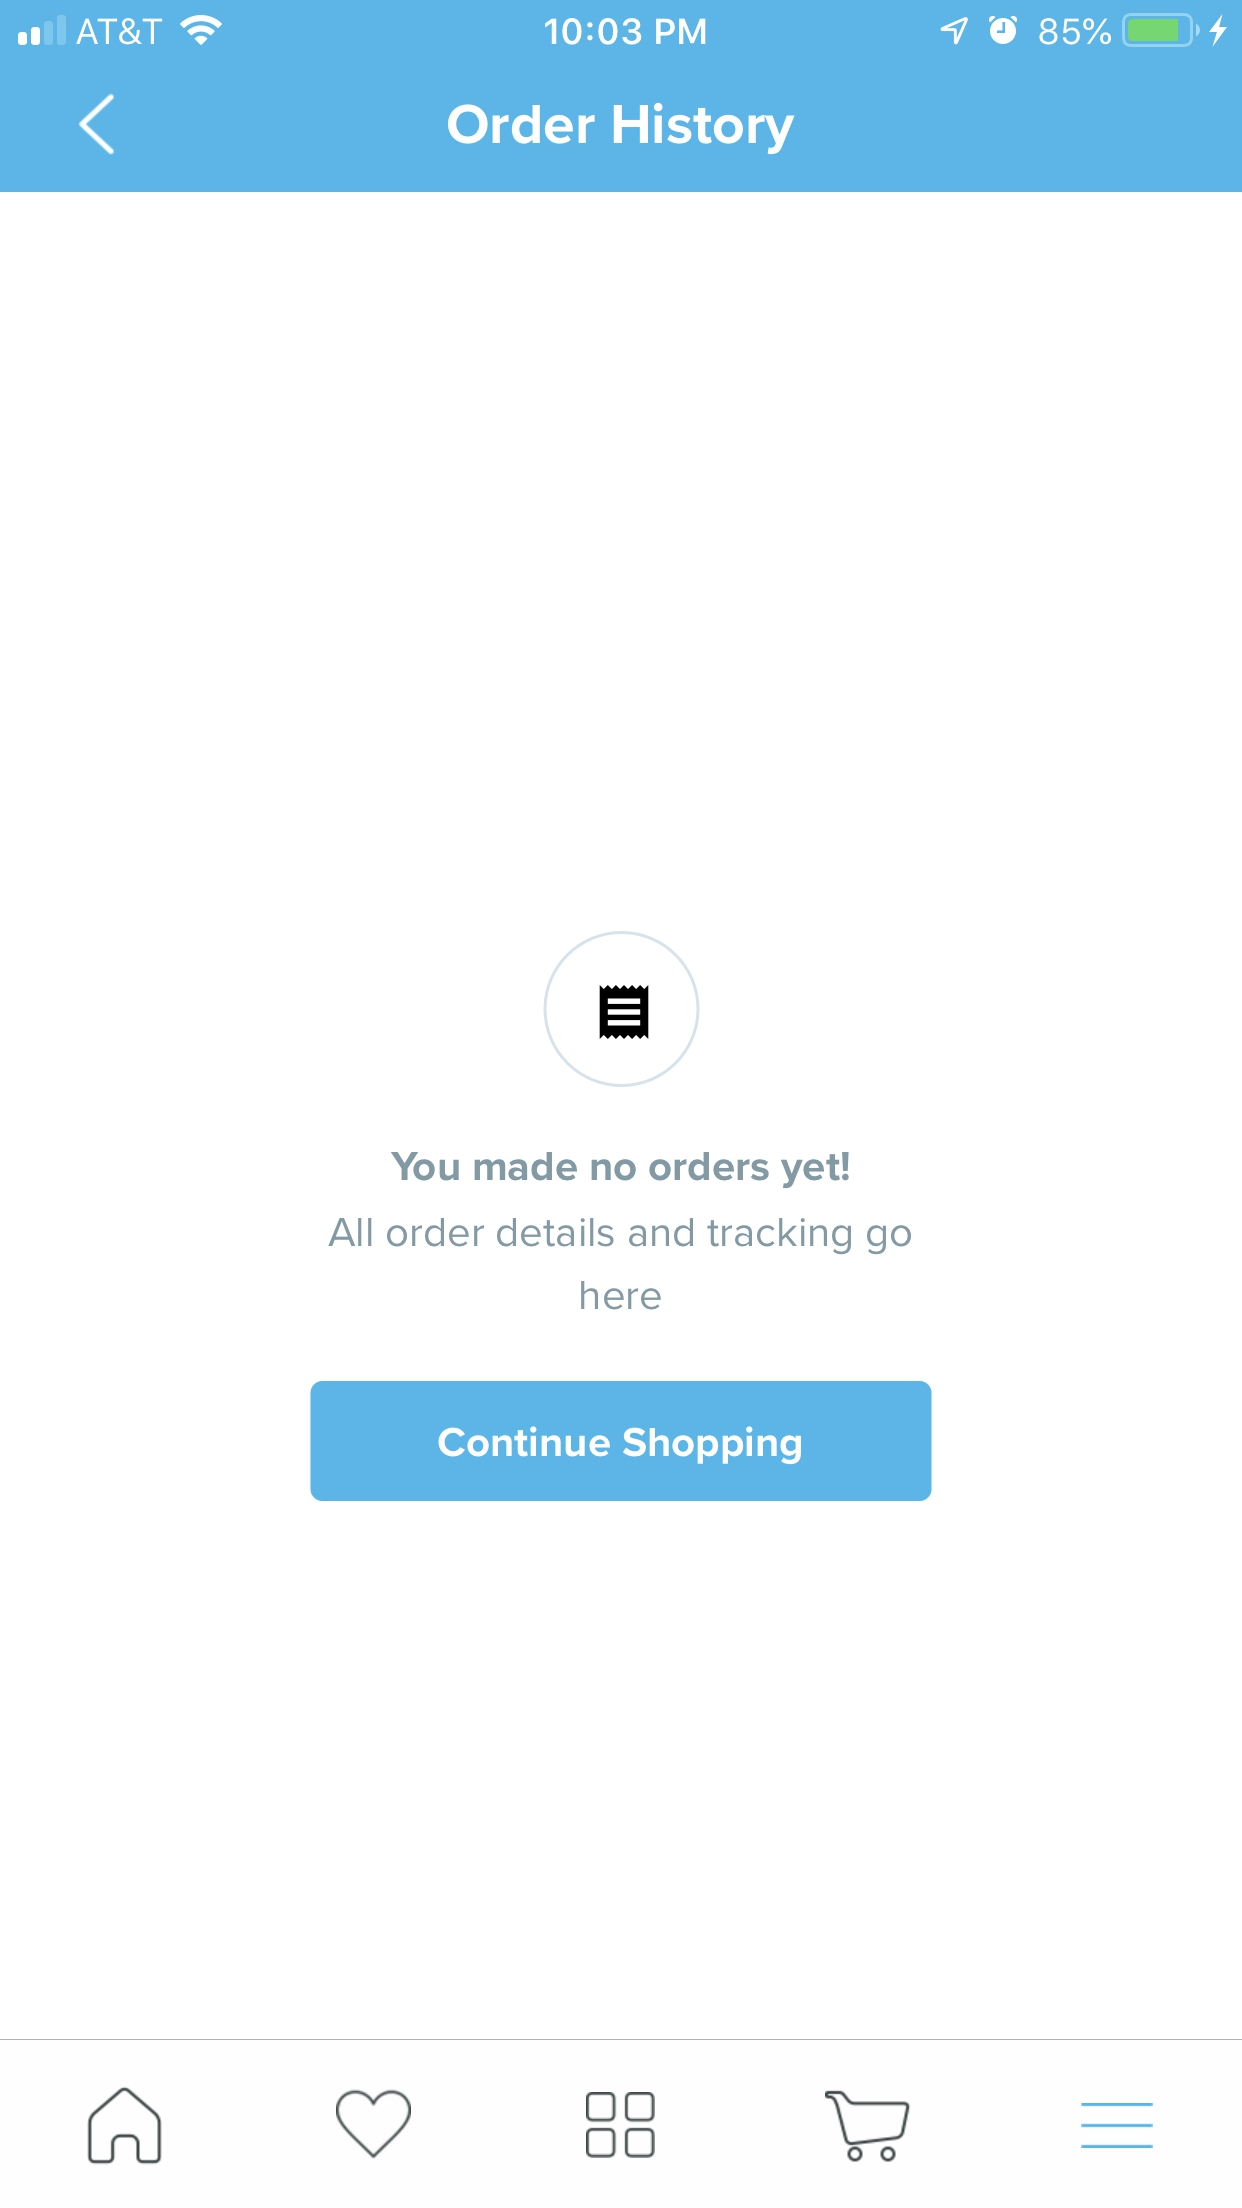Icon: (543, 931, 701, 1087), (823, 2090, 910, 2163), (89, 2087, 162, 2164), (335, 2090, 412, 2159), (585, 2091, 657, 2159), (1080, 2102, 1154, 2149), (79, 96, 115, 156)
Text: (329, 1218, 911, 1310), (447, 103, 796, 156), (391, 1151, 851, 1189)
TextButton: (309, 1382, 933, 1501)
UpperTaskBar: (2, 2, 1242, 49)
